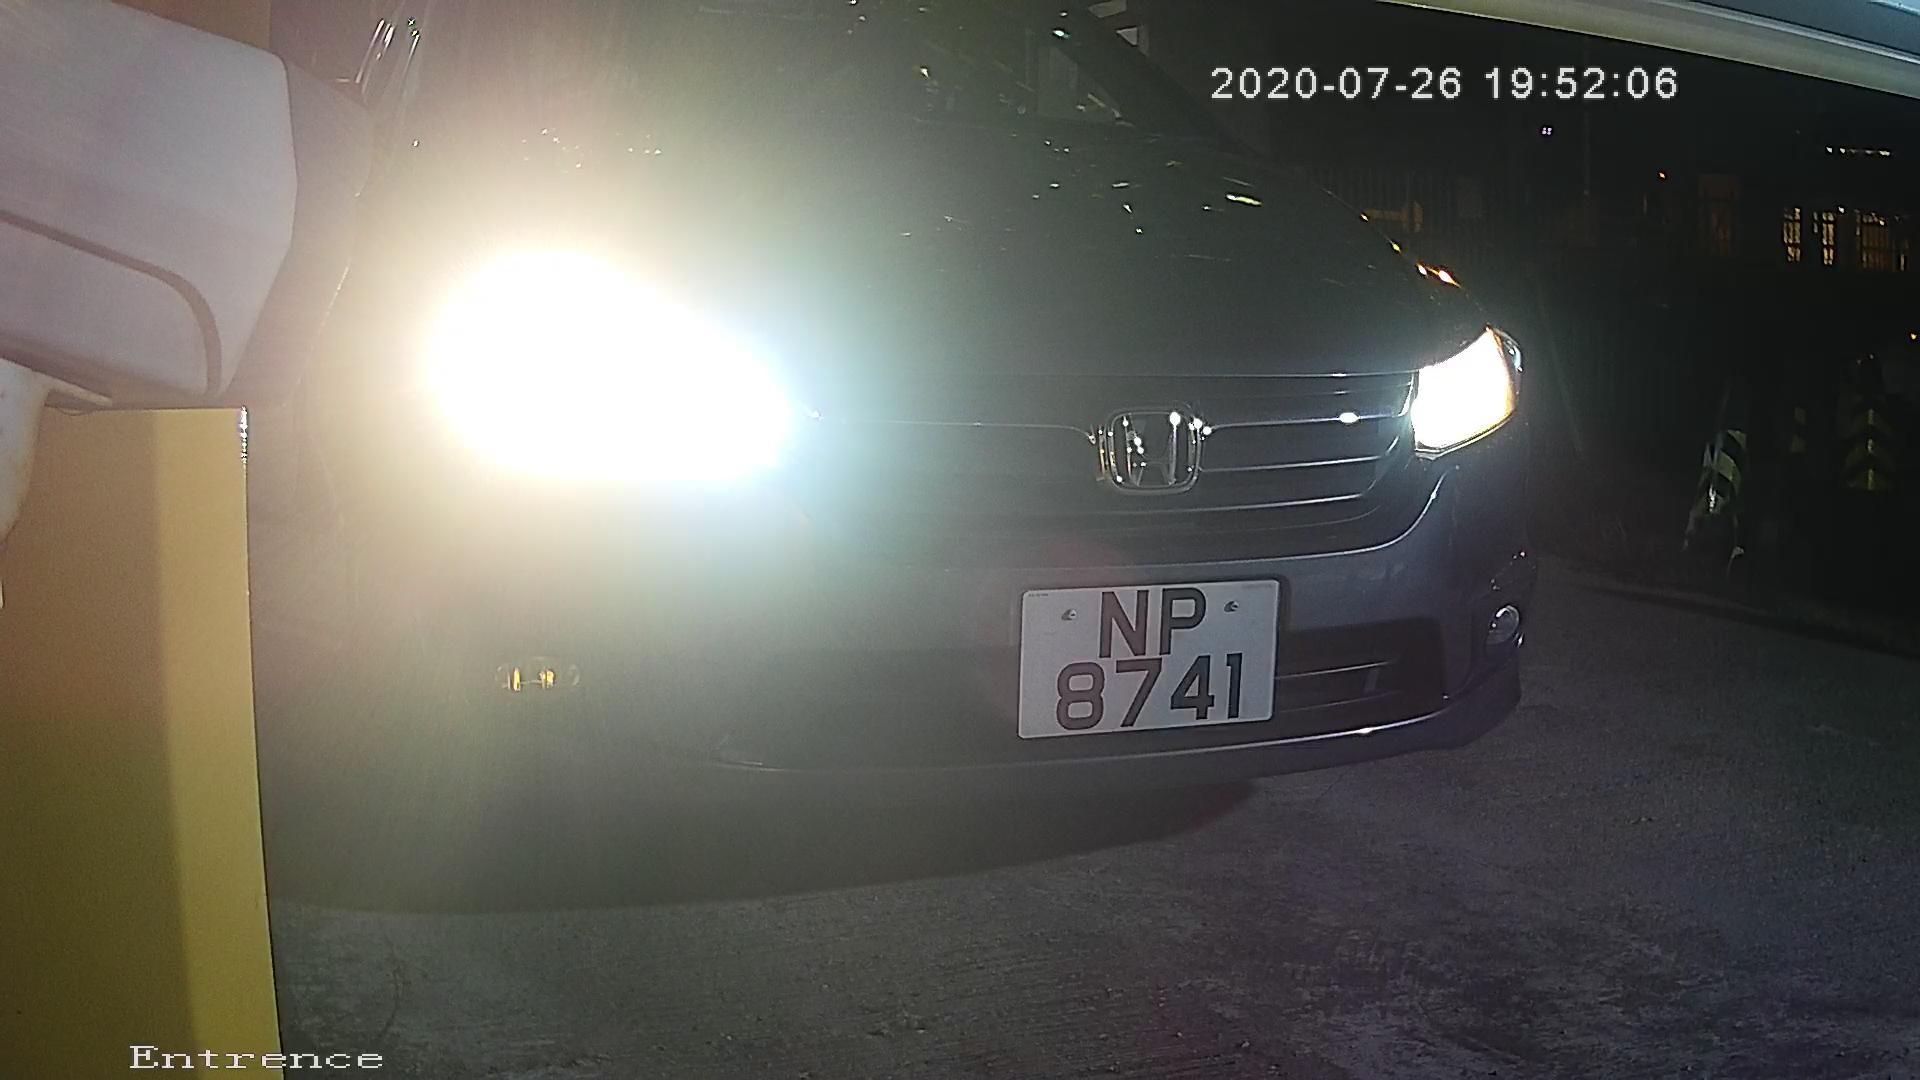License Plate: (978, 550, 1295, 753)
